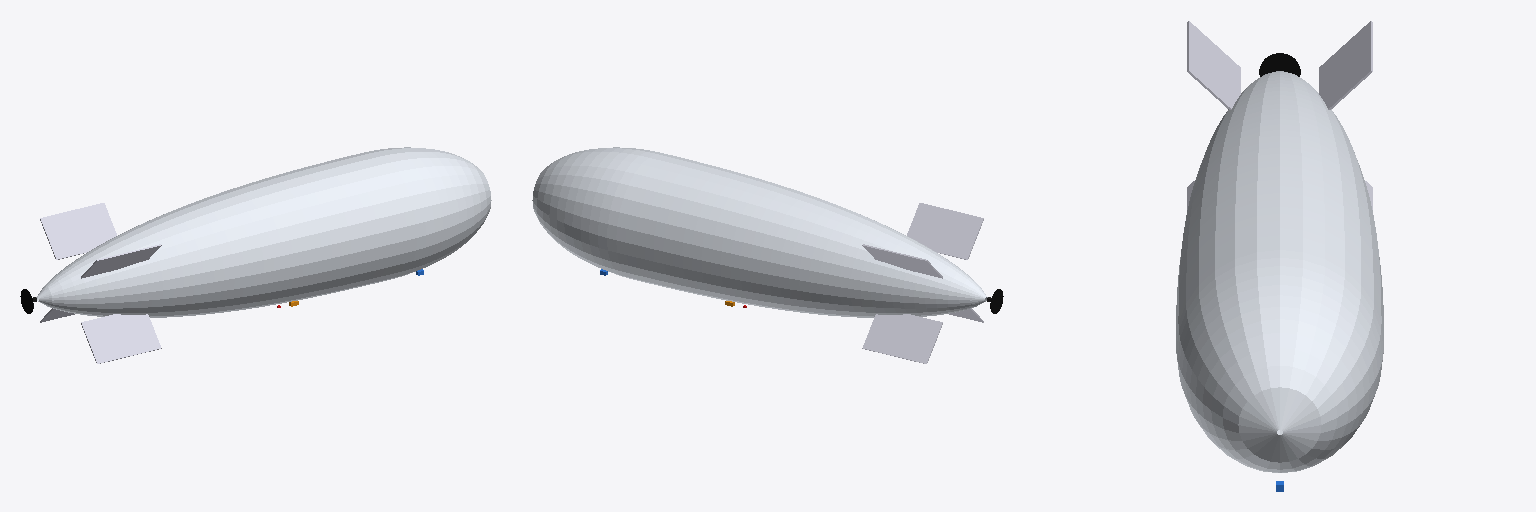
URDF robot description (aiur_S1-touch_hull):
<?xml version="1.0"?>
<!-- GENERATED by tools/strato_export.py from design point S1-touch/hull. Do not edit. -->
<robot name="aiur_S1-touch_hull">
  <link name="base_link">
    <inertial><mass value="9.8327"/>
      <origin xyz="0 0 -0.8874"/>
      <inertia ixx="18.265" iyy="129.095" izz="121.352" ixy="0" ixz="0" iyz="0"/></inertial>
    <visual><geometry><mesh filename="package://aiur_description/meshes/S1-touch_hull_hull.stl"/></geometry>
      <material name="film"><color rgba="0.92 0.94 0.97 0.55"/></material></visual>
  </link>
  <link name="fin_0_link"><visual><geometry><box size="2.147 0.04 1.342"/></geometry>
    <material name="fin"><color rgba="0.85 0.85 0.9 0.9"/></material></visual></link>
  <joint name="fin_0_joint" type="fixed"><parent link="base_link"/><child link="fin_0_link"/>
    <origin xyz="-6.459 -1.185 1.185" rpy="0.7854 0 0"/></joint>
  <link name="fin_1_link"><visual><geometry><box size="2.147 0.04 1.342"/></geometry>
    <material name="fin"><color rgba="0.85 0.85 0.9 0.9"/></material></visual></link>
  <joint name="fin_1_joint" type="fixed"><parent link="base_link"/><child link="fin_1_link"/>
    <origin xyz="-6.459 -1.185 -1.185" rpy="2.3562 0 0"/></joint>
  <link name="fin_2_link"><visual><geometry><box size="2.147 0.04 1.342"/></geometry>
    <material name="fin"><color rgba="0.85 0.85 0.9 0.9"/></material></visual></link>
  <joint name="fin_2_joint" type="fixed"><parent link="base_link"/><child link="fin_2_link"/>
    <origin xyz="-6.459 1.185 -1.185" rpy="3.9270 0 0"/></joint>
  <link name="fin_3_link"><visual><geometry><box size="2.147 0.04 1.342"/></geometry>
    <material name="fin"><color rgba="0.85 0.85 0.9 0.9"/></material></visual></link>
  <joint name="fin_3_joint" type="fixed"><parent link="base_link"/><child link="fin_3_link"/>
    <origin xyz="-6.459 1.185 1.185" rpy="5.4978 0 0"/></joint>
  <link name="bay_link"><visual><geometry><box size="0.26 0.16 0.12"/></geometry><material name="bay_link"><color rgba="0.95 0.6 0.1 1"/></material></visual></link>
  <joint name="bay_link_joint" type="fixed"><parent link="base_link"/><child link="bay_link"/>
    <origin xyz="0 0 -2.131" rpy="0 0 0"/></joint>
  <link name="payload_link"><visual><geometry><box size="0.20 0.14 0.12"/></geometry><material name="payload_link"><color rgba="0.2 0.5 0.9 1"/></material></visual></link>
  <joint name="payload_link_joint" type="fixed"><parent link="base_link"/><child link="payload_link"/>
    <origin xyz="4.213 0 -2.131" rpy="0 0 0"/></joint>
  <link name="ftu_link"><visual><geometry><box size="0.10 0.07 0.05"/></geometry><material name="ftu_link"><color rgba="0.9 0.1 0.1 1"/></material></visual></link>
  <joint name="ftu_link_joint" type="fixed"><parent link="base_link"/><child link="ftu_link"/>
    <origin xyz="-0.500 0 -2.131" rpy="0 0 0"/></joint>
  <link name="gnss_link"></link>
  <joint name="gnss_link_joint" type="fixed"><parent link="base_link"/><child link="gnss_link"/>
    <origin xyz="0 0 -2.031" rpy="0 0 0"/></joint>
  <link name="baro_link"></link>
  <joint name="baro_link_joint" type="fixed"><parent link="base_link"/><child link="baro_link"/>
    <origin xyz="0 0 -2.131" rpy="0 0 0"/></joint>
  <link name="ambient_probe"></link>
  <joint name="ambient_probe_joint" type="fixed"><parent link="base_link"/><child link="ambient_probe"/>
    <origin xyz="0.4 0 -2.331" rpy="0 0 0"/></joint>
  <link name="gas_probe"></link>
  <joint name="gas_probe_joint" type="fixed"><parent link="base_link"/><child link="gas_probe"/>
    <origin xyz="0 0 -1.581" rpy="0 0 0"/></joint>
  <link name="stern_pod_link"><visual><geometry><box size="0.22 0.10 0.10"/></geometry>
    <material name="pod"><color rgba="0.15 0.15 0.15 1"/></material></visual></link>
  <joint name="stern_pod_joint" type="fixed"><parent link="base_link"/><child link="stern_pod_link"/>
    <origin xyz="-8.716 0 0"/></joint>
  <link name="gimbal_yaw_link"/>
  <joint name="gimbal_yaw_joint" type="revolute"><parent link="stern_pod_link"/><child link="gimbal_yaw_link"/>
    <origin xyz="-0.12 0 0"/><axis xyz="0 0 1"/>
    <limit lower="-0.436" upper="0.436" effort="1.0" velocity="1.05"/></joint>
  <link name="gimbal_pitch_link"/>
  <joint name="gimbal_pitch_joint" type="revolute"><parent link="gimbal_yaw_link"/><child link="gimbal_pitch_link"/>
    <axis xyz="0 1 0"/><limit lower="-0.436" upper="0.436" effort="1.0" velocity="1.05"/></joint>
  <link name="propeller_link"><visual><geometry>
    <cylinder radius="0.376" length="0.01"/></geometry>
    <origin rpy="0 1.5708 0"/><material name="prop"><color rgba="0.1 0.1 0.1 0.5"/></material></visual></link>
  <joint name="propeller_joint" type="continuous"><parent link="gimbal_pitch_link"/><child link="propeller_link"/>
    <origin xyz="-0.08 0 0"/><axis xyz="1 0 0"/></joint>
</robot>

--- What the picture shows (computed from the rendered views, not written in the file) ---
The picture shows the robot from 3 angles, left to right: view 1: azimuth 30°, elevation 25°; view 2: azimuth 150°, elevation 25°; view 3: azimuth 270°, elevation 25°; orthographic projection.
Model aiur_S1-touch_hull with 16 links and 15 joints (2 revolute, 1 continuous, 12 fixed), rooted at base_link, posed every joint at zero.
Links seen in each view (by area): view 1: base_link, fin_1_link, fin_3_link, fin_0_link; view 2: base_link, fin_2_link, fin_0_link, fin_3_link; view 3: base_link, fin_0_link, fin_3_link, propeller_link.
Boxes of the visible links, <box> form: base_link: <box>36,147,491,317</box>; fin_1_link: <box>81,314,161,363</box>; fin_3_link: <box>40,203,116,259</box>; fin_0_link: <box>81,244,161,278</box>; base_link: <box>532,147,987,317</box>; fin_2_link: <box>862,314,942,363</box>; fin_0_link: <box>907,203,983,259</box>; fin_3_link: <box>862,244,942,278</box>; base_link: <box>1176,71,1383,472</box>; fin_0_link: <box>1187,21,1240,109</box>; fin_3_link: <box>1319,21,1372,109</box>; propeller_link: <box>1259,53,1300,76</box>.
Bounding box of the posed robot: 15.4 × 3.76 × 4.07 m (x, y, z).
Meshes: 1 distinct files referenced, 1 mesh visuals loaded (1 binary STL).
